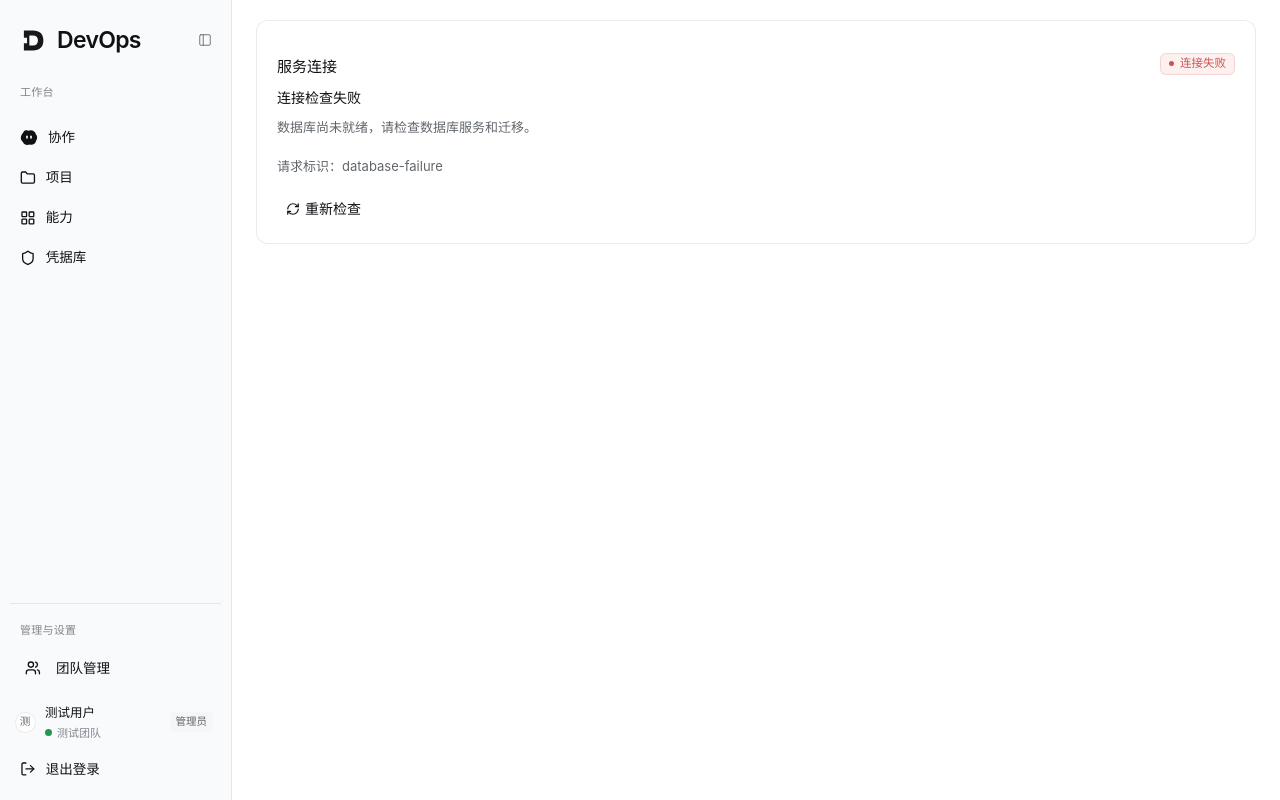
Test case: 工作区路由与数据状态 › 数据库失败有明确提示，恢复后能手动重试
Expected: the message shows "数据库尚未就绪", [277,118,537,134]
Expected: the text "请求标识：database-failure" is shown, [277,158,443,174]
Click the button "重新检查" at [323, 209], box [277,195,370,223]
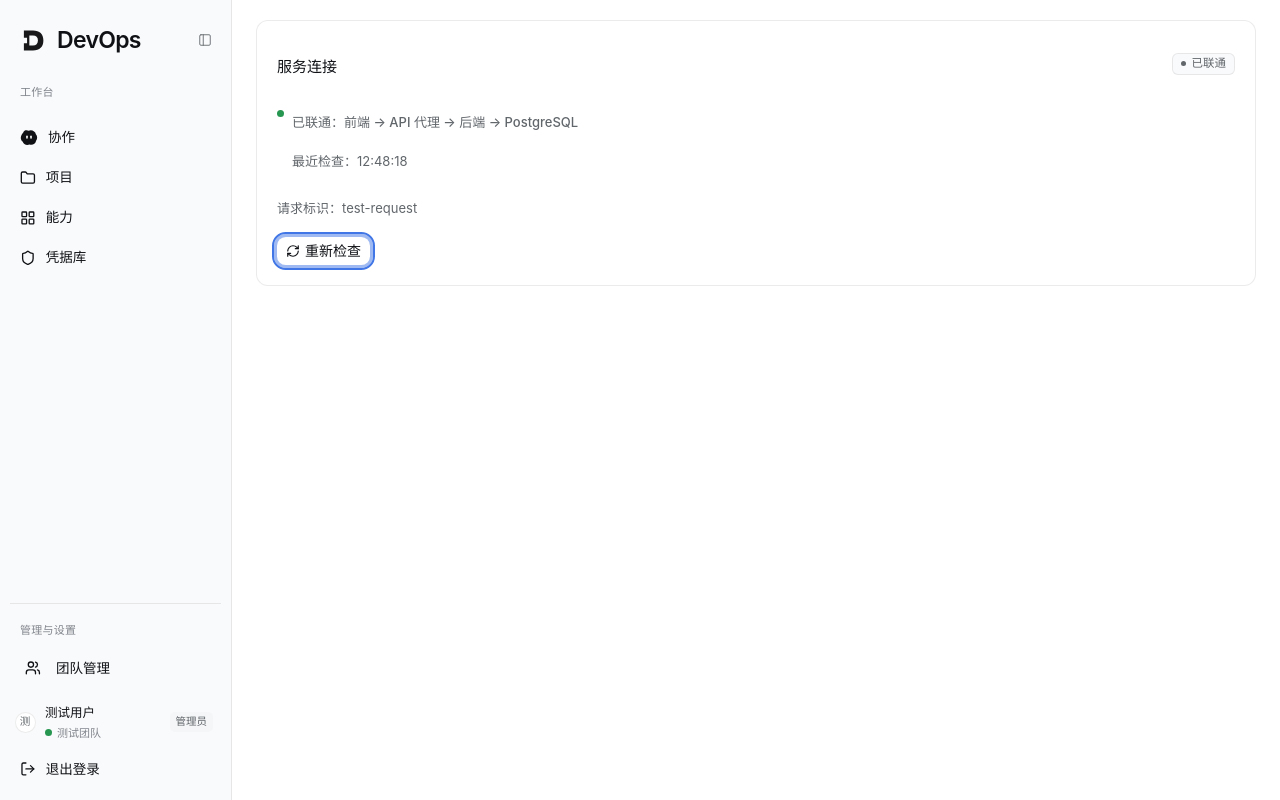
Expected: the text "已联通：前端 → API 代理 → 后端 → PostgreSQL" is shown, [292,110,578,133]
